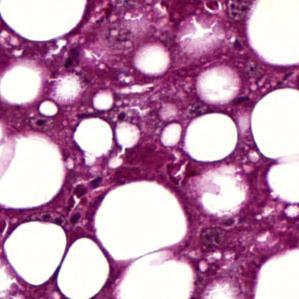steatosis: (55, 238, 114, 299), (186, 111, 236, 162), (74, 114, 114, 159)
